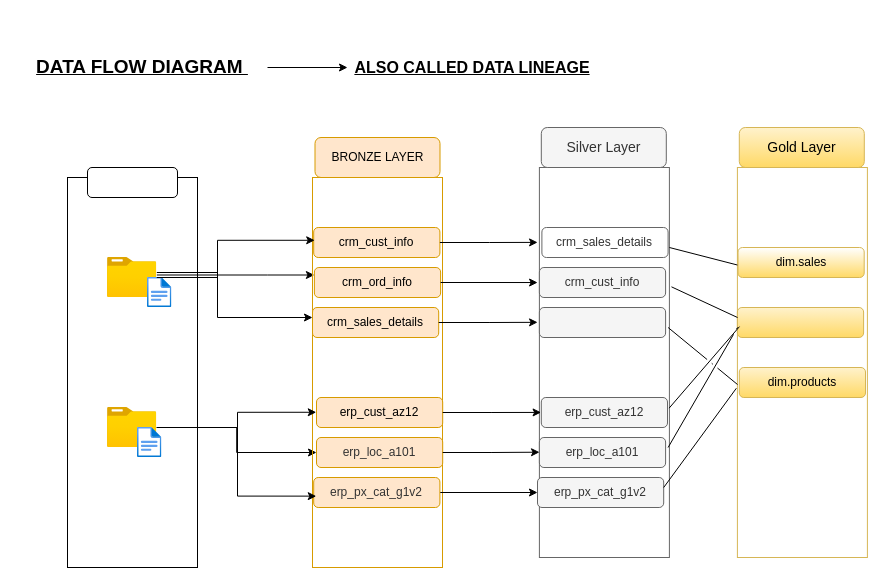
This 885x585 diagram has some shape labels left out. The shapes that lost their labels are listed below. From the top down, each one's box as (x1, y1, x2, y2) in pixels, then its label:
(86, 166, 178, 198): SOURCE
(538, 306, 666, 338): crm_prd_info
(736, 306, 864, 338): dim.customers
